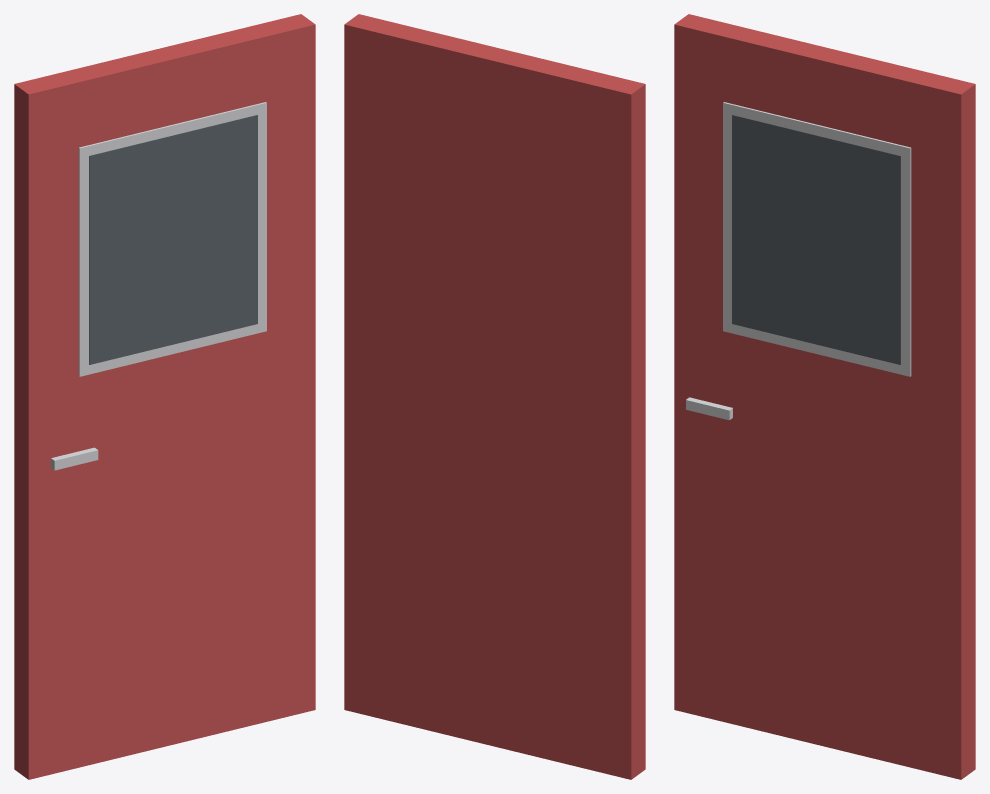
The model's file is RoomDoor_train.fbx.
The picture shows the model from 3 angles, left to right: view 1: azimuth 30°, elevation 25°; view 2: azimuth 150°, elevation 25°; view 3: azimuth 330°, elevation 25°; orthographic projection.
Visible parts, largest first — view 1: RoomDoor_train; view 2: RoomDoor_train; view 3: RoomDoor_train.
Part boxes in pixels (x1,y1,x2,y2): RoomDoor_train: (14,14,315,779); RoomDoor_train: (344,14,645,779); RoomDoor_train: (674,14,975,779).
Size of the model in its own units: 0.92 by 2.1 by 0.12.
